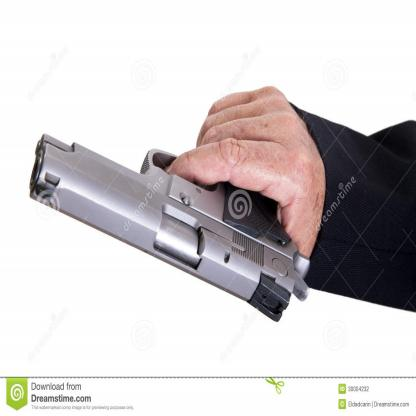pistol: (28, 132, 310, 322)
